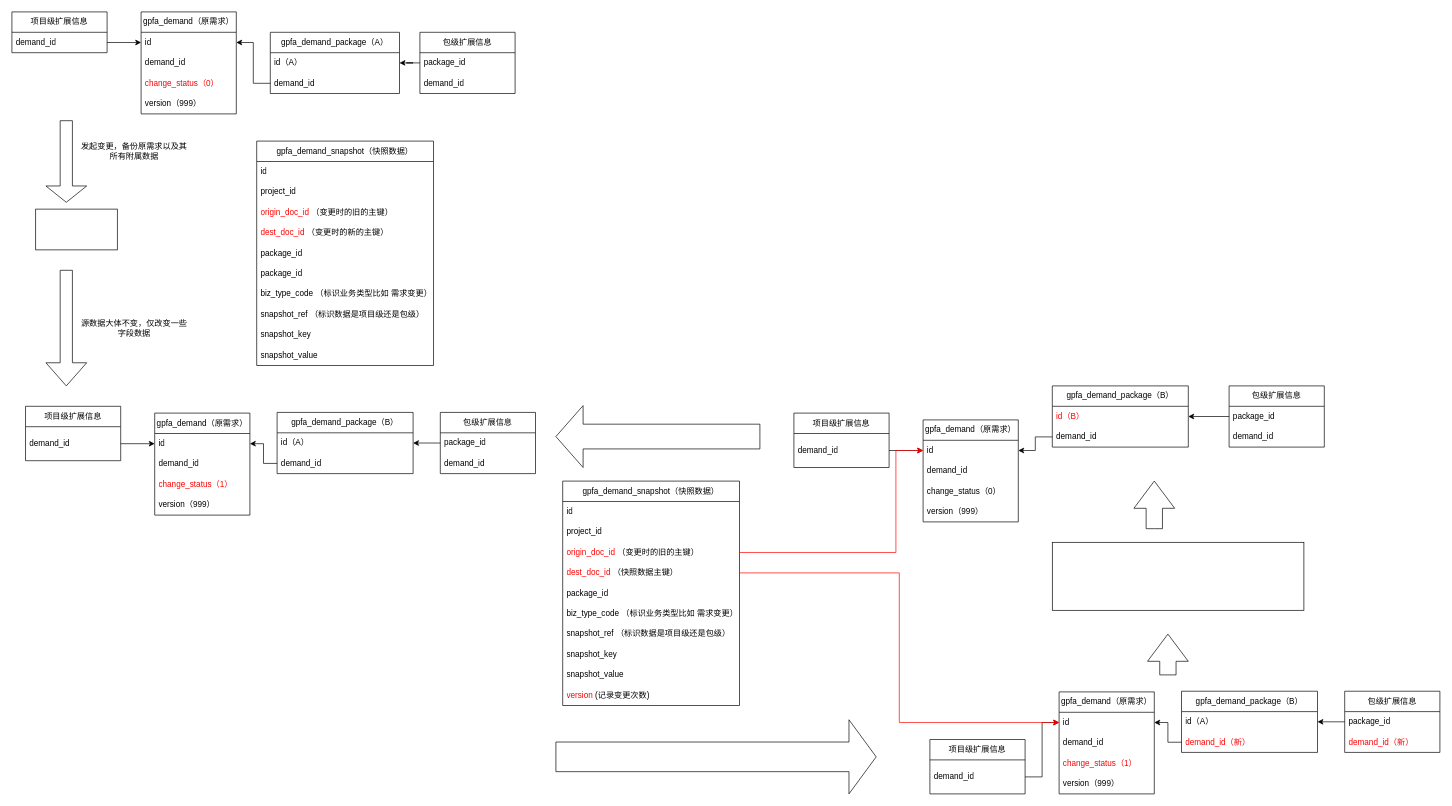
Image size: 1452x806. Some labels were removed from this diagram. The shapes that lost their labels are listed below. From the top down, each one's box as (x1, y1, x2, y2) in pixels, then its label:
(35, 208, 117, 250): 保存快照数据集
(555, 405, 760, 468): 恢复数据
(1052, 542, 1304, 610): 根据快照表的 dest_doc_id 字段查出所有快照数据
(555, 719, 876, 794): 撤销变更
